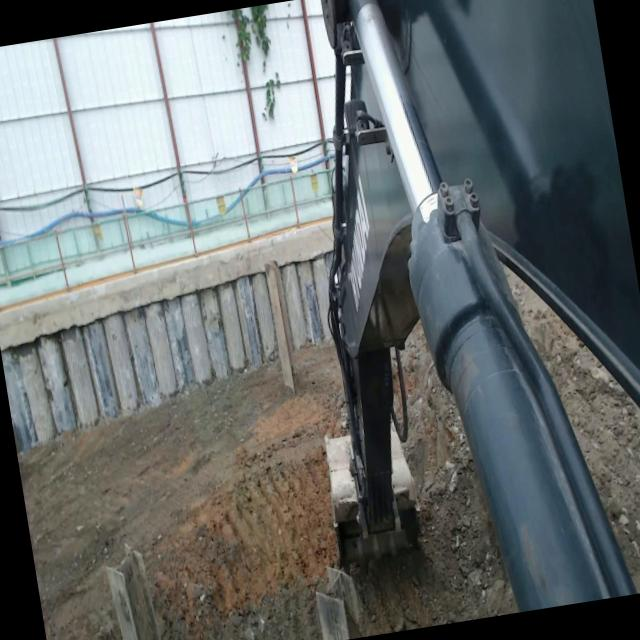cement: (0, 219, 332, 350)
red-sand: (18, 345, 346, 640), (351, 324, 517, 637), (511, 281, 640, 592)
